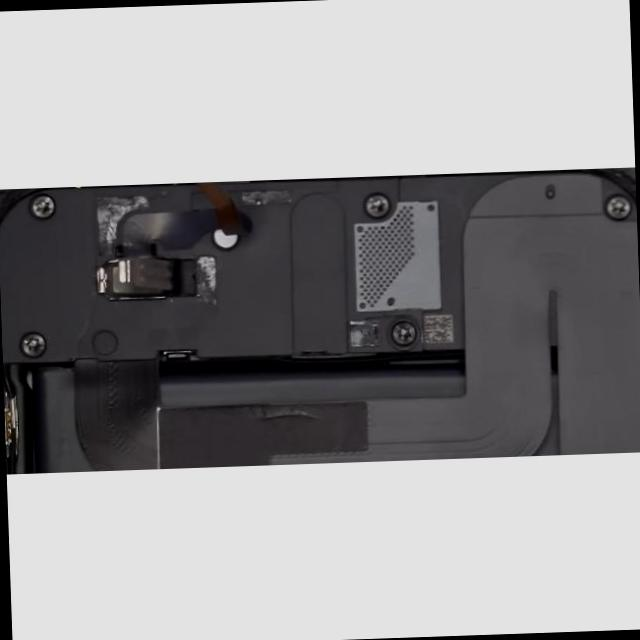Torx: (28, 192, 57, 220), (19, 331, 47, 358), (392, 322, 415, 344), (606, 196, 628, 217), (366, 196, 387, 216)
